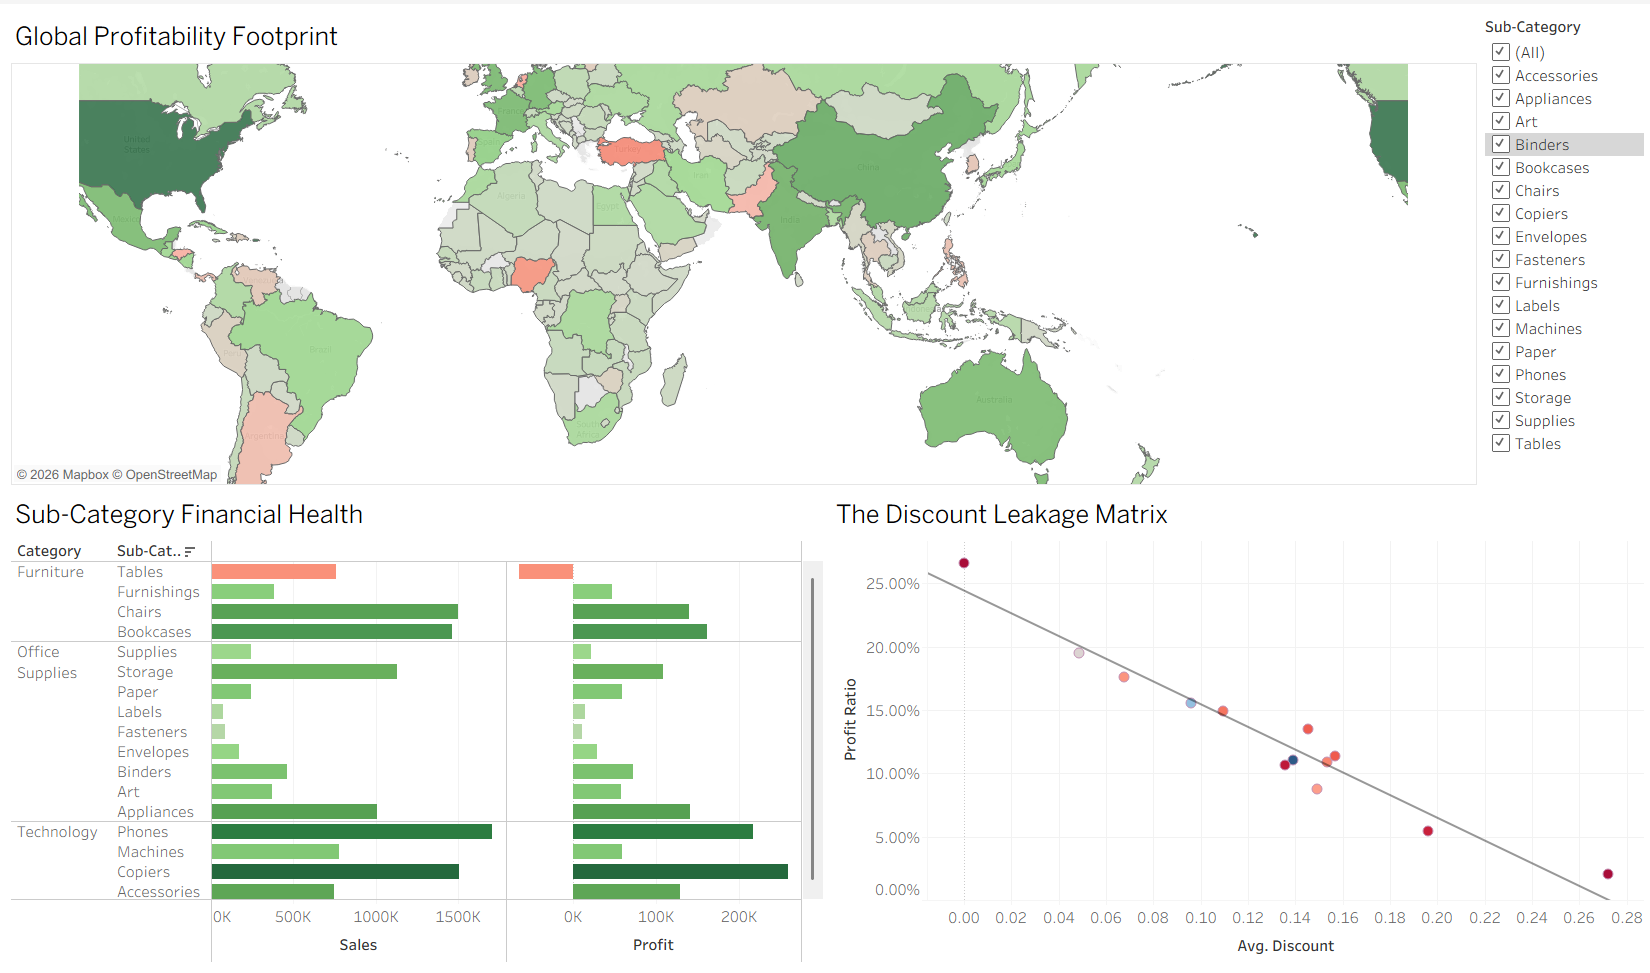

What the dashboard file says about the page in this screenshot:
{"tool":"tableau","page":{"name":"Dashboard 1","canvas":[1000,1000],"units":"permille","ordinal":0},"visuals":[{"type":"worksheet","title":"Sheet 3","mark":"Multipolygon","box":[4.8,8.2,889.6,491.8]},{"type":"filter","title":"Sheet 3","param":"[federated.0vt7x2g0bd5p401eqd0sw1n63ew5].[none:Sub-Category:nk]","box":[894.4,8.2,100.8,491.8]},{"type":"worksheet","title":"Sheet 2","mark":"Automatic","rows":["Category","Sub-Category"],"cols":["Sales","Profit"],"box":[4.8,500,495.2,491.8]},{"type":"worksheet","title":"Sheet 1","mark":"Circle","rows":["Calculation_0795783989374976"],"cols":["Discount"],"box":[500,500,495.2,491.8]}]}

Visuals, with their boxes on the dashboard's canvas, which has no fixed pixel size, in thousandths of its width and height (x1, y1, x2, y2). These are canvas units, not pixel positions in the 1650x973 screenshot, which may show the page scaled, cropped or inside an application window:
"Sheet 3" worksheet (Multipolygon marks): (left=5, top=8, right=894, bottom=500)
"Sheet 3" filter: (left=894, top=8, right=995, bottom=500)
"Sheet 2" worksheet: (left=5, top=500, right=500, bottom=992)
"Sheet 1" worksheet (Circle marks): (left=500, top=500, right=995, bottom=992)
